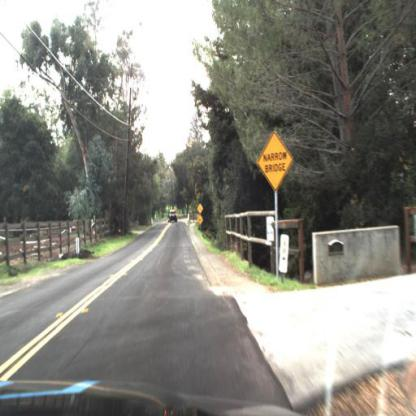car: (169, 210, 179, 224)
